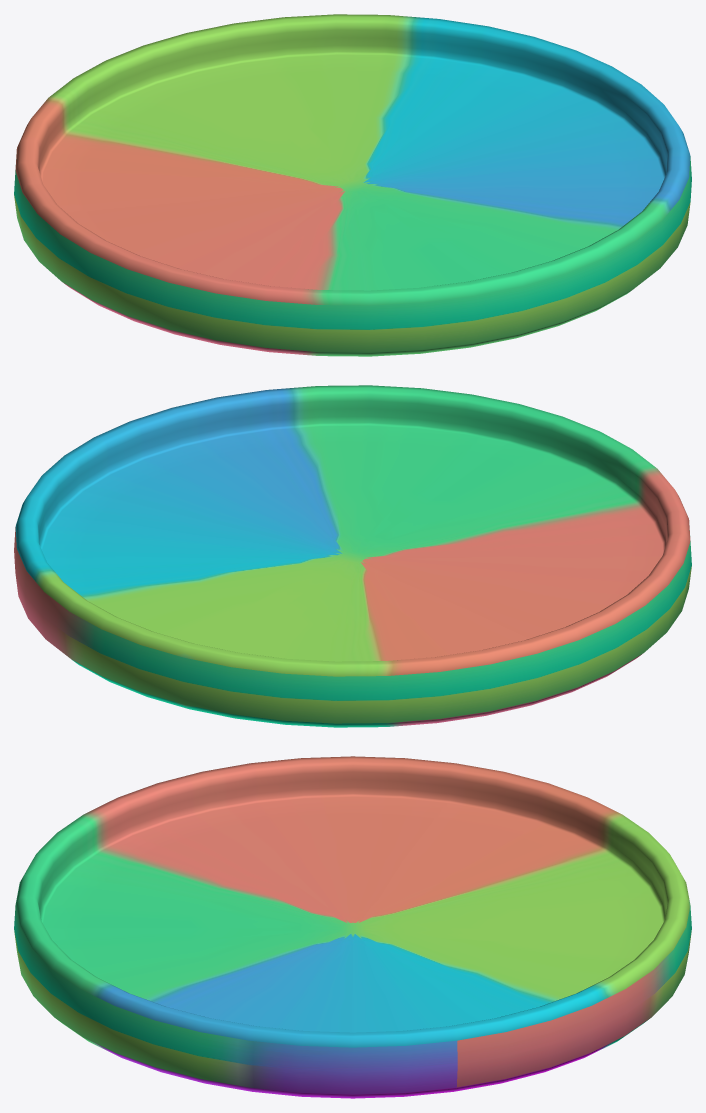
Rendered from Plate.fbx.
3 renders of one model, top to bottom at view 1: azimuth 30°, elevation 25°; view 2: azimuth 150°, elevation 25°; view 3: azimuth 270°, elevation 25°, orthographic.
Visible parts, largest first — view 1: pCylinder1; view 2: pCylinder1; view 3: pCylinder1.
Boxes of the visible parts, box(x1,y1,x2,y2) form: pCylinder1: box(14, 14, 691, 356); pCylinder1: box(14, 385, 691, 727); pCylinder1: box(14, 756, 691, 1098).
Size of the model in its own units: 19.39 by 2 by 19.39.
1 material, 1 textured.
